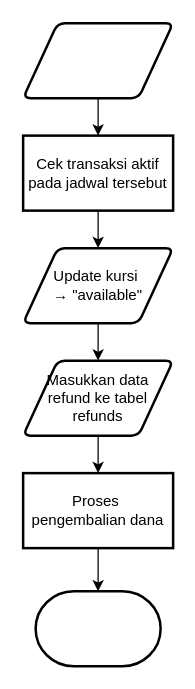
Image size: 195x689. Some labels were removed from this diagram. Here are the shapes that lost their labels. From the top down, the centre of each, then its label:
[97,60]: Admin membatalkan jadwal tayang
[97,628]: Selesai
